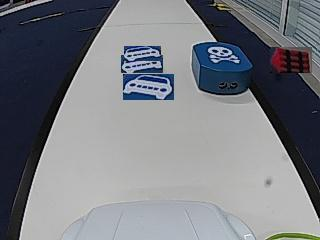danger: (208, 45, 239, 63)
